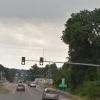Traffic light: (12, 50, 47, 70)
